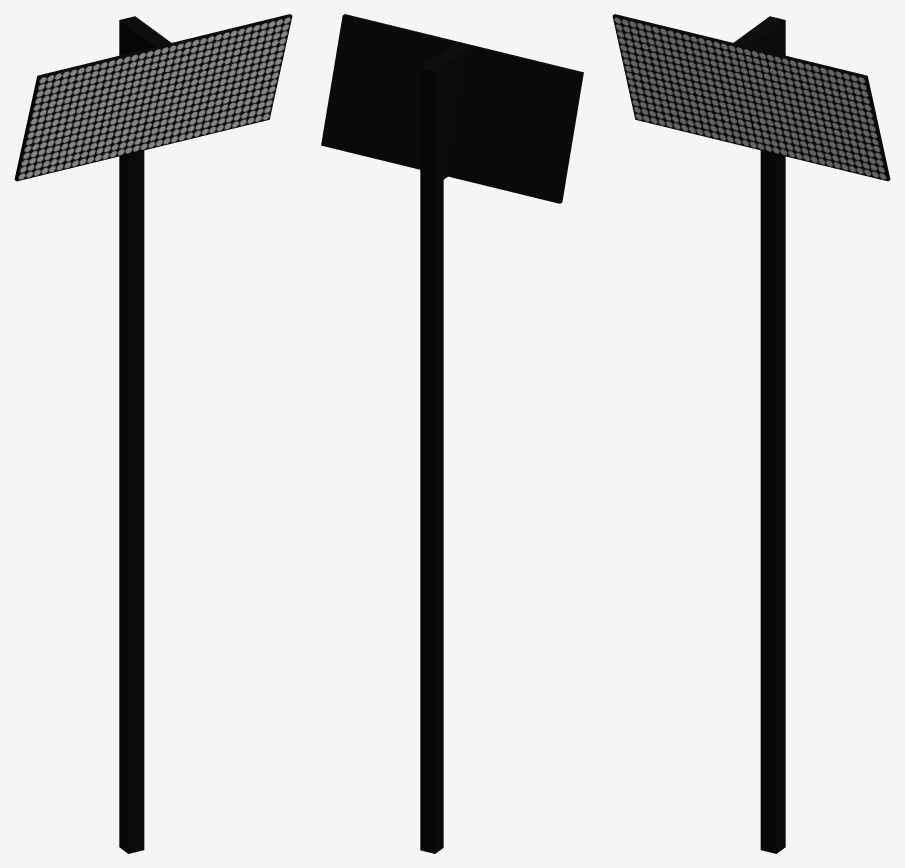
The model's file is ArenaLight.fbx.
3 views of the same model, side by side, from view 1: azimuth 30°, elevation 25°; view 2: azimuth 150°, elevation 25°; view 3: azimuth 330°, elevation 25° (orthographic). The views are drawn at different scales.
Visible parts, largest first — view 1: ArenaLight; view 2: ArenaLight; view 3: ArenaLight.
Part boxes in pixels (x1,y1,x2,y2): ArenaLight: (14,14,292,853); ArenaLight: (321,14,583,853); ArenaLight: (612,14,890,853).
Size of the model in its own units: 32 by 100 by 8.5.
